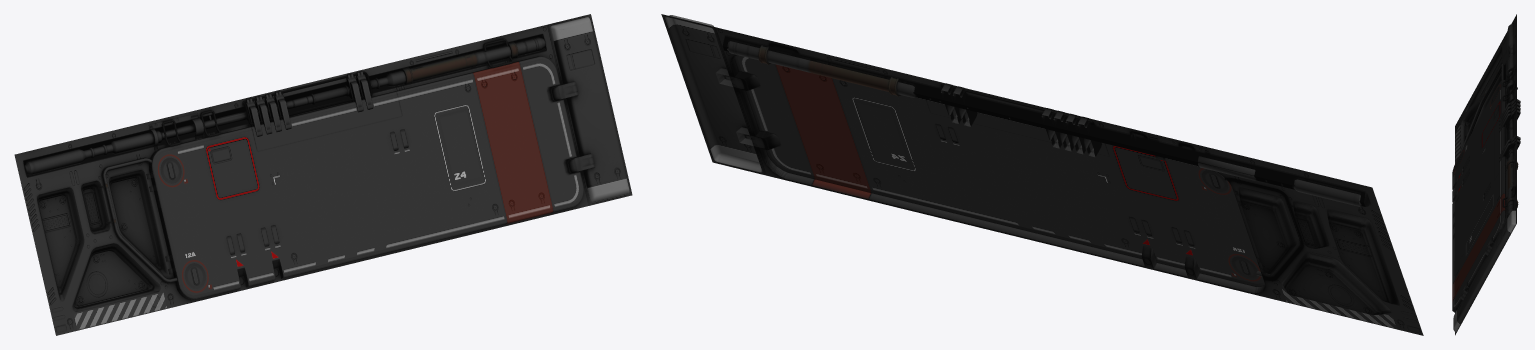
The model's file is Panel_A_4x025_Diag.FBX.
The picture shows the model from 3 angles, left to right: view 1: azimuth 30°, elevation 25°; view 2: azimuth 150°, elevation 25°; view 3: azimuth 270°, elevation 25°; orthographic projection. The views are drawn at different scales.
Parts seen in each view (by area): view 1: Panel_A_4x025_Diag; view 2: Panel_A_4x025_Diag; view 3: Panel_A_4x025_Diag.
Boxes of the visible parts, box(x1,y1,x2,y2) form: Panel_A_4x025_Diag: box(14, 14, 632, 335); Panel_A_4x025_Diag: box(661, 14, 1423, 335); Panel_A_4x025_Diag: box(1452, 14, 1520, 335).
Bounding box in the file's own units: 400 × 100 × 55.15.
